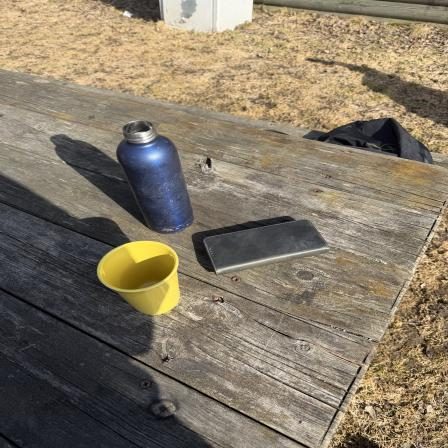blue_bottle: (116, 120, 197, 232)
phone: (199, 223, 335, 273)
yellow_cup: (96, 241, 186, 316)
